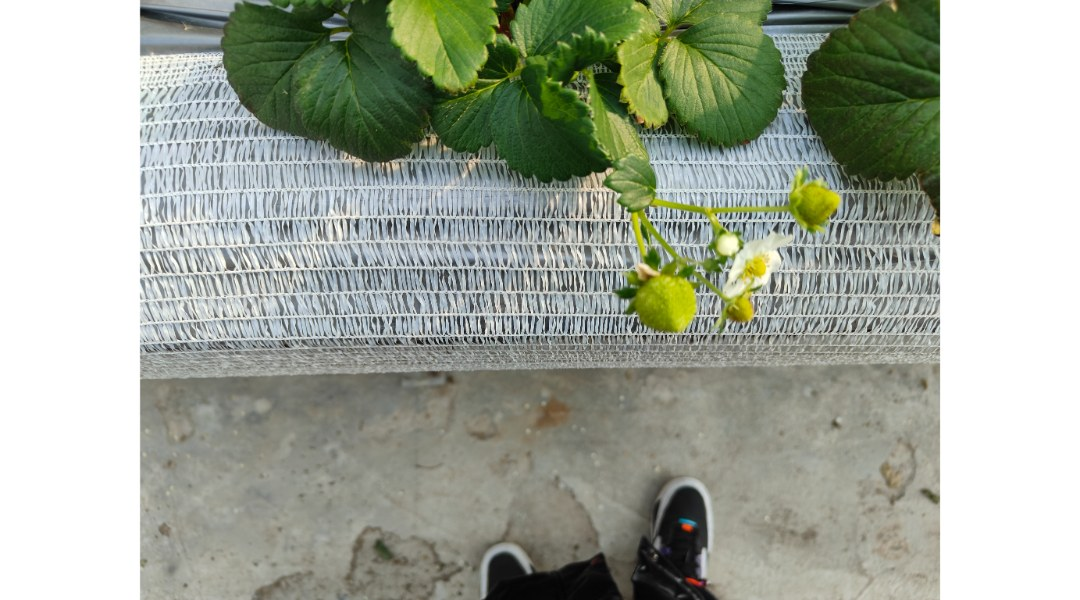berry: (622, 256, 700, 347), (784, 162, 851, 240)
flower: (719, 221, 800, 297)
